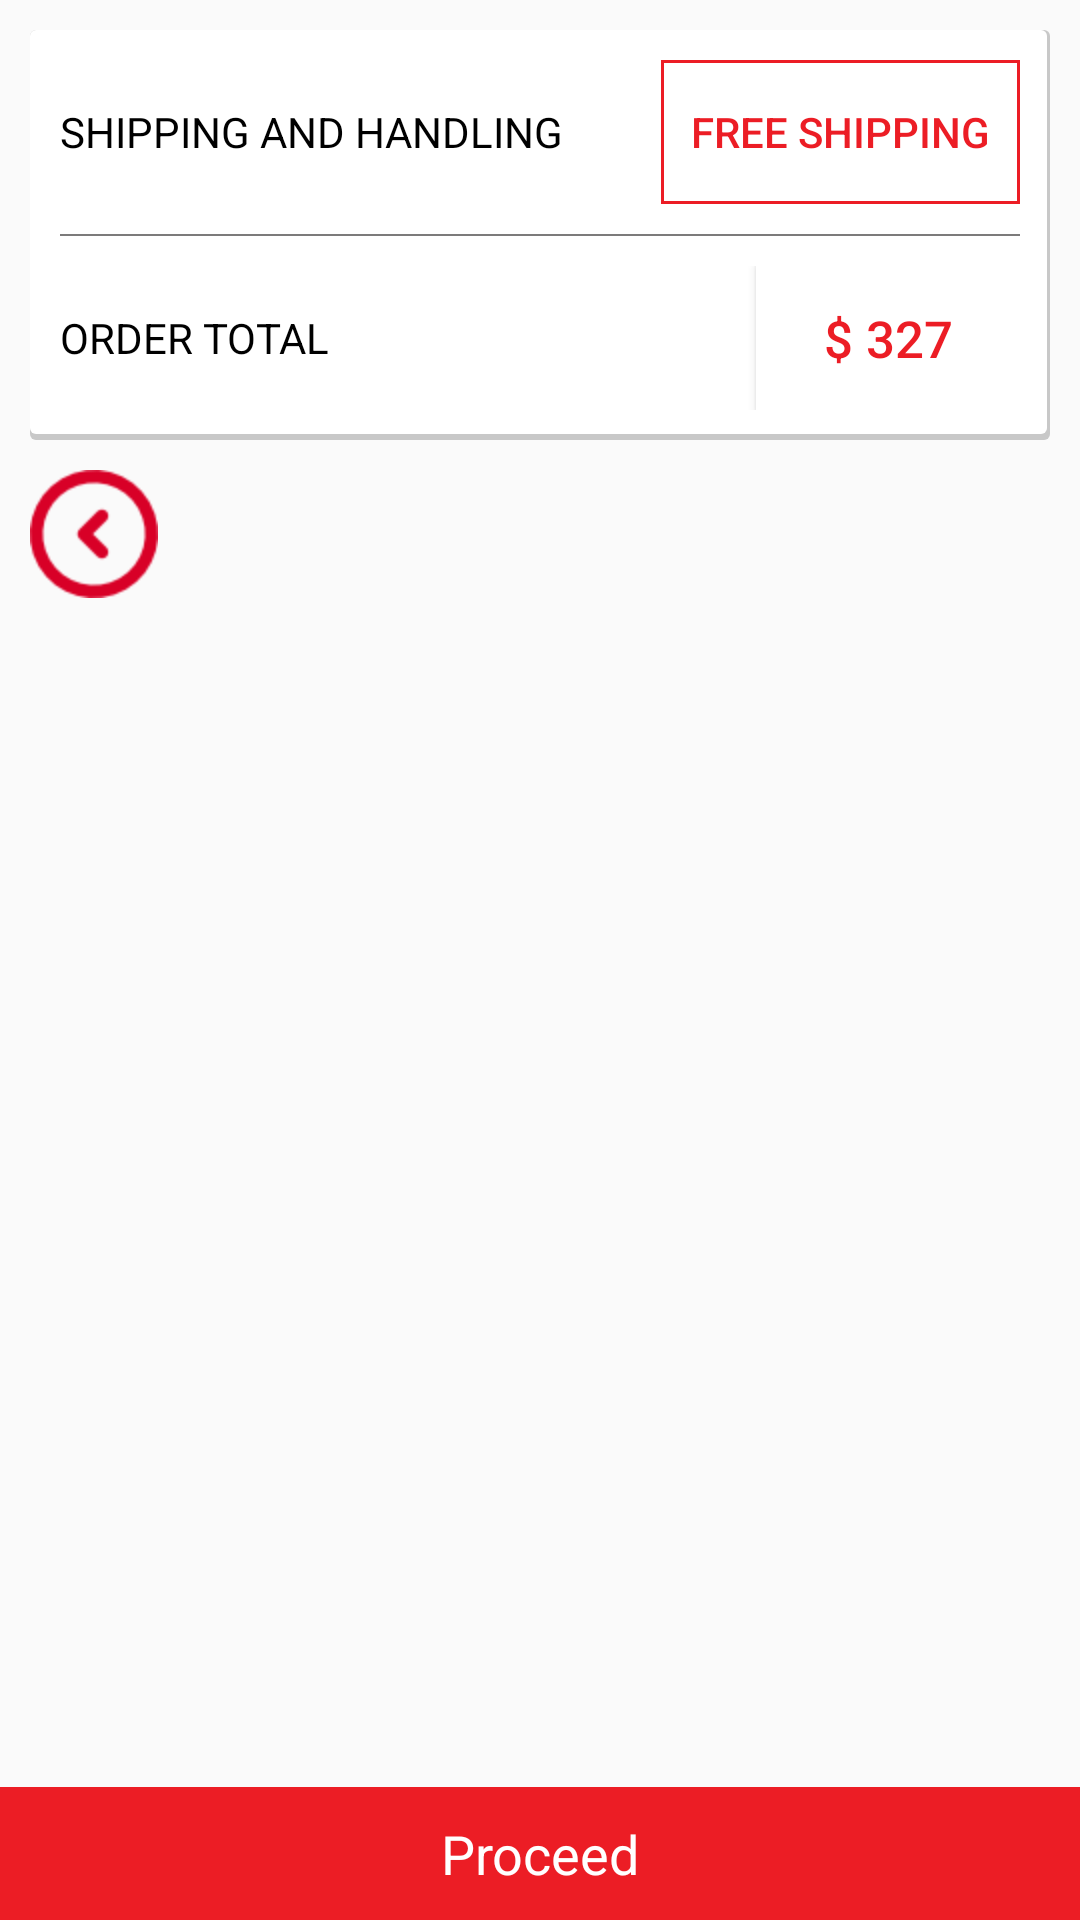

Point at icon controls on the screen. Image size 1080×1920, points as [x,y].
circle arrow: [94,534]
